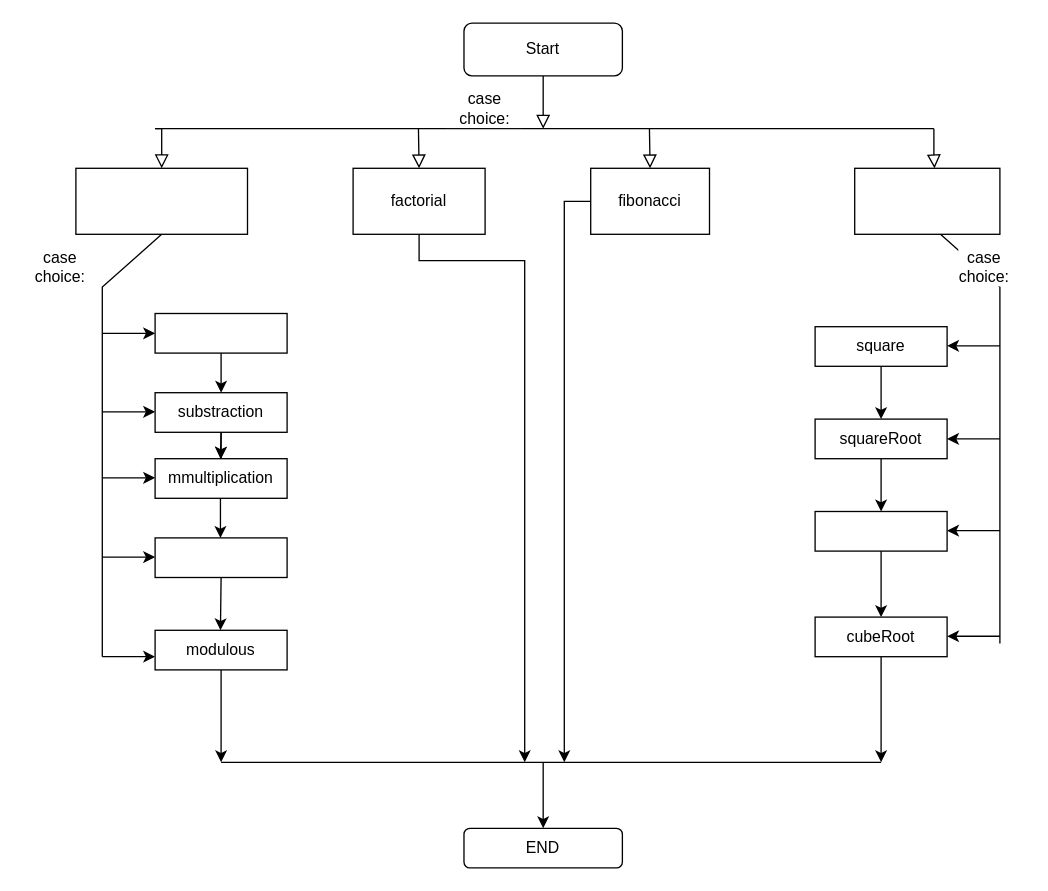
Some shapes in this 1048 by 891 pixel diagram are drawn without their labels. The shapes that lost their labels are listed below. From the top down, each one's centre as x and y in pixels, then its label:
At point (161, 200): "arithematicOperation".
At point (926, 200): "squareAndRoot".
At point (220, 332): "addition".
At point (880, 530): "cube".
At point (220, 557): "division".
